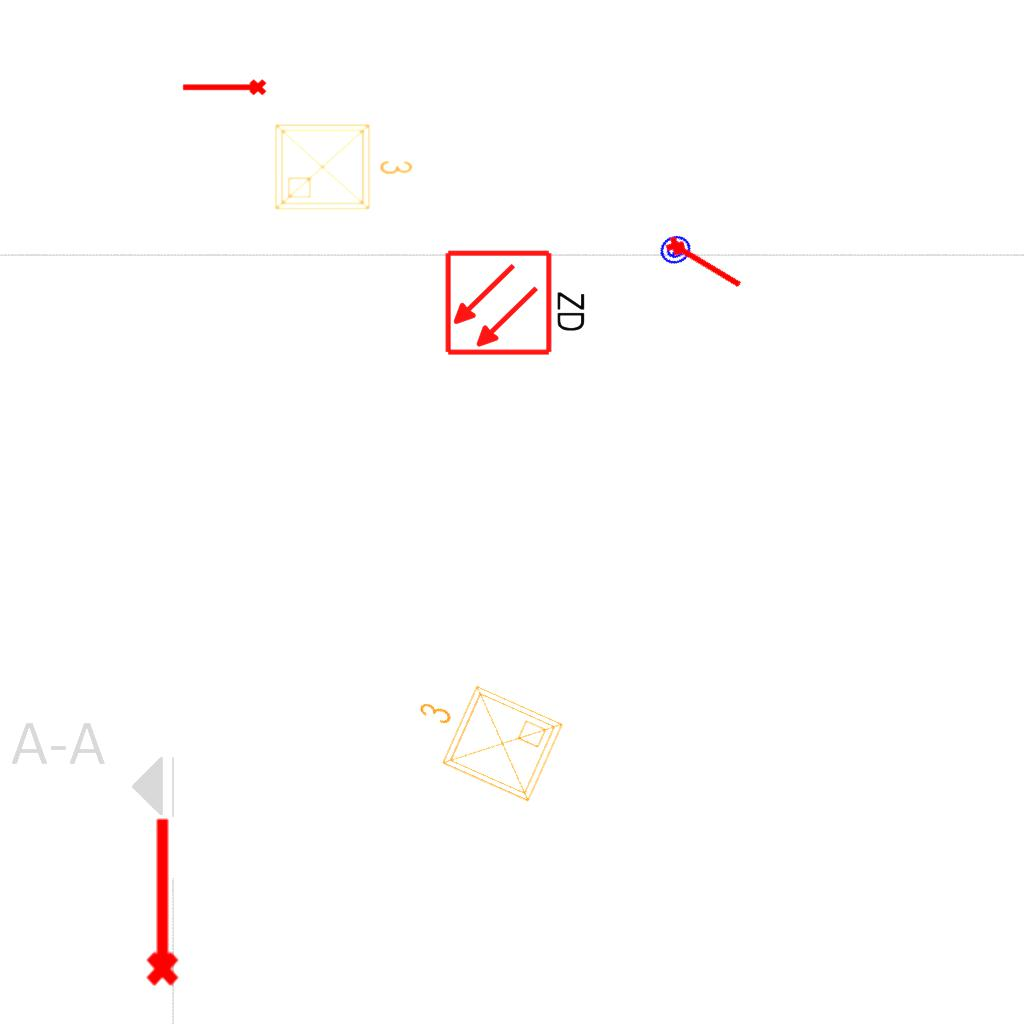ASR_Ansaugoeffnung: (137, 813, 183, 989), (661, 229, 749, 296), (180, 77, 268, 100)
Einbaudownlights_LED_Konferenzraeume: (393, 658, 573, 816), (268, 113, 418, 217)
Taster_beleuchtet: (653, 227, 698, 272)
ZD_Melder_in_Zwischendecke_mit_Revisionsoeffnung_mind_40_x_40_cm: (443, 244, 592, 358)
